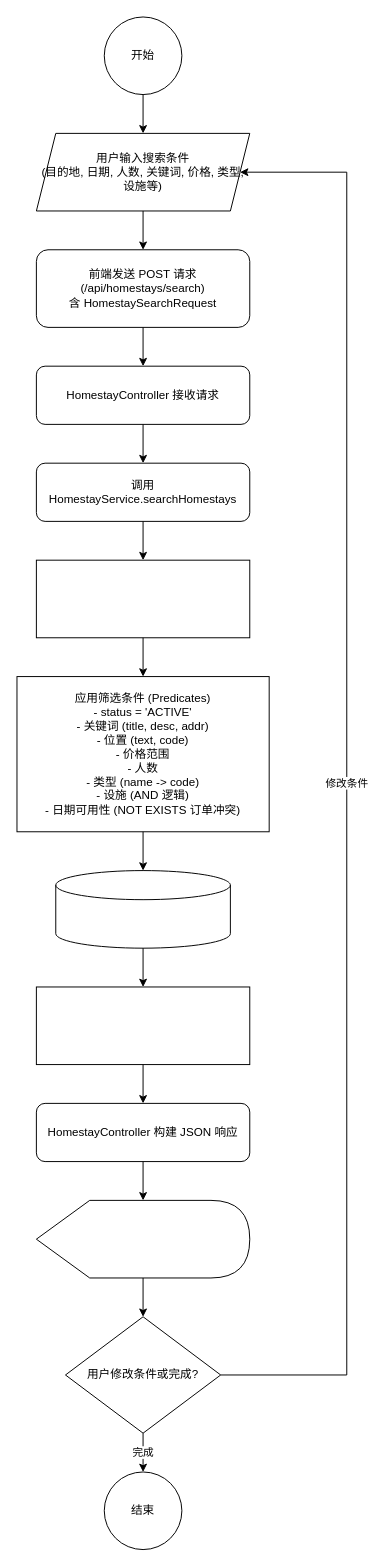
Image size: 385x1567. Some labels were removed from this diagram. The centre of each missing label's shape, as x and y in pixels:
HomestayRepository 执行查询: (142,909)
HomestayService 构建查询 (JPA Specification): (142,598)
HomestayService 转换结果 (Homestay -> HomestayDTO): (142,1025)
前端展示搜索结果: (142,1238)
